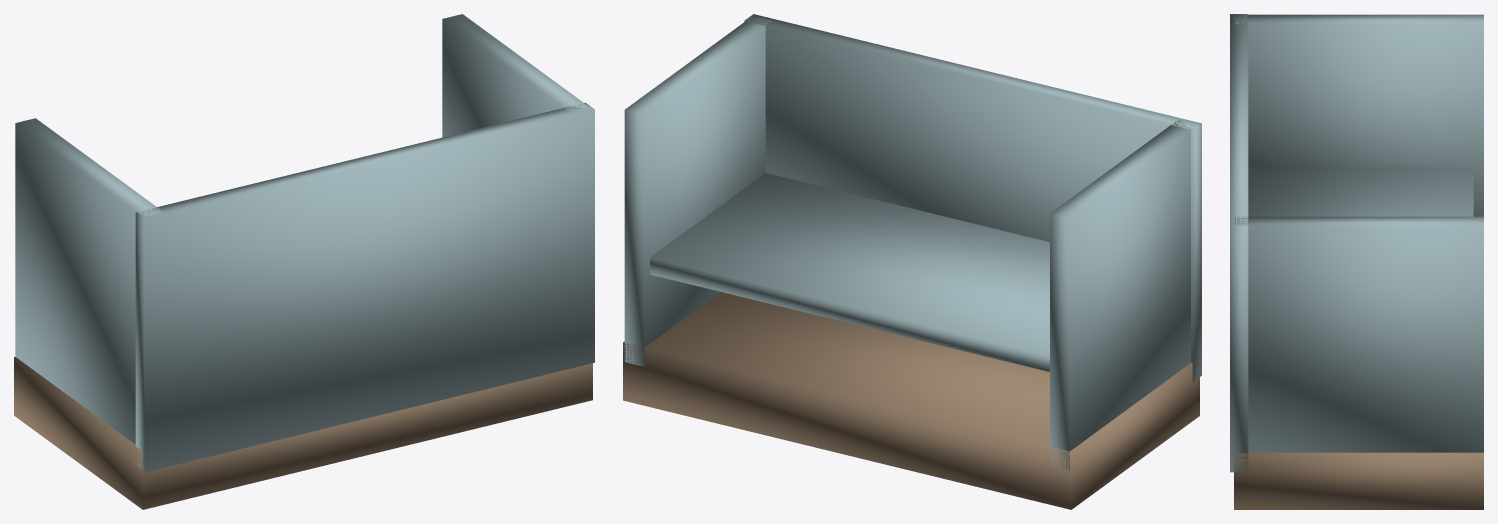
Rendered from pastry_case__wide.glb.
3 views of the same model, side by side, from view 1: azimuth 30°, elevation 25°; view 2: azimuth 150°, elevation 25°; view 3: azimuth 270°, elevation 25° (orthographic). The views are drawn at different scales.
Visible parts, largest first — view 1: world; view 2: world; view 3: world.
Boxes of the visible parts, <box> form: world: <box>14,14,594,509</box>; world: <box>623,14,1201,509</box>; world: <box>1230,14,1483,509</box>.
Bounding box in the file's own units: 0.9672 × 0.6 × 0.4875.
